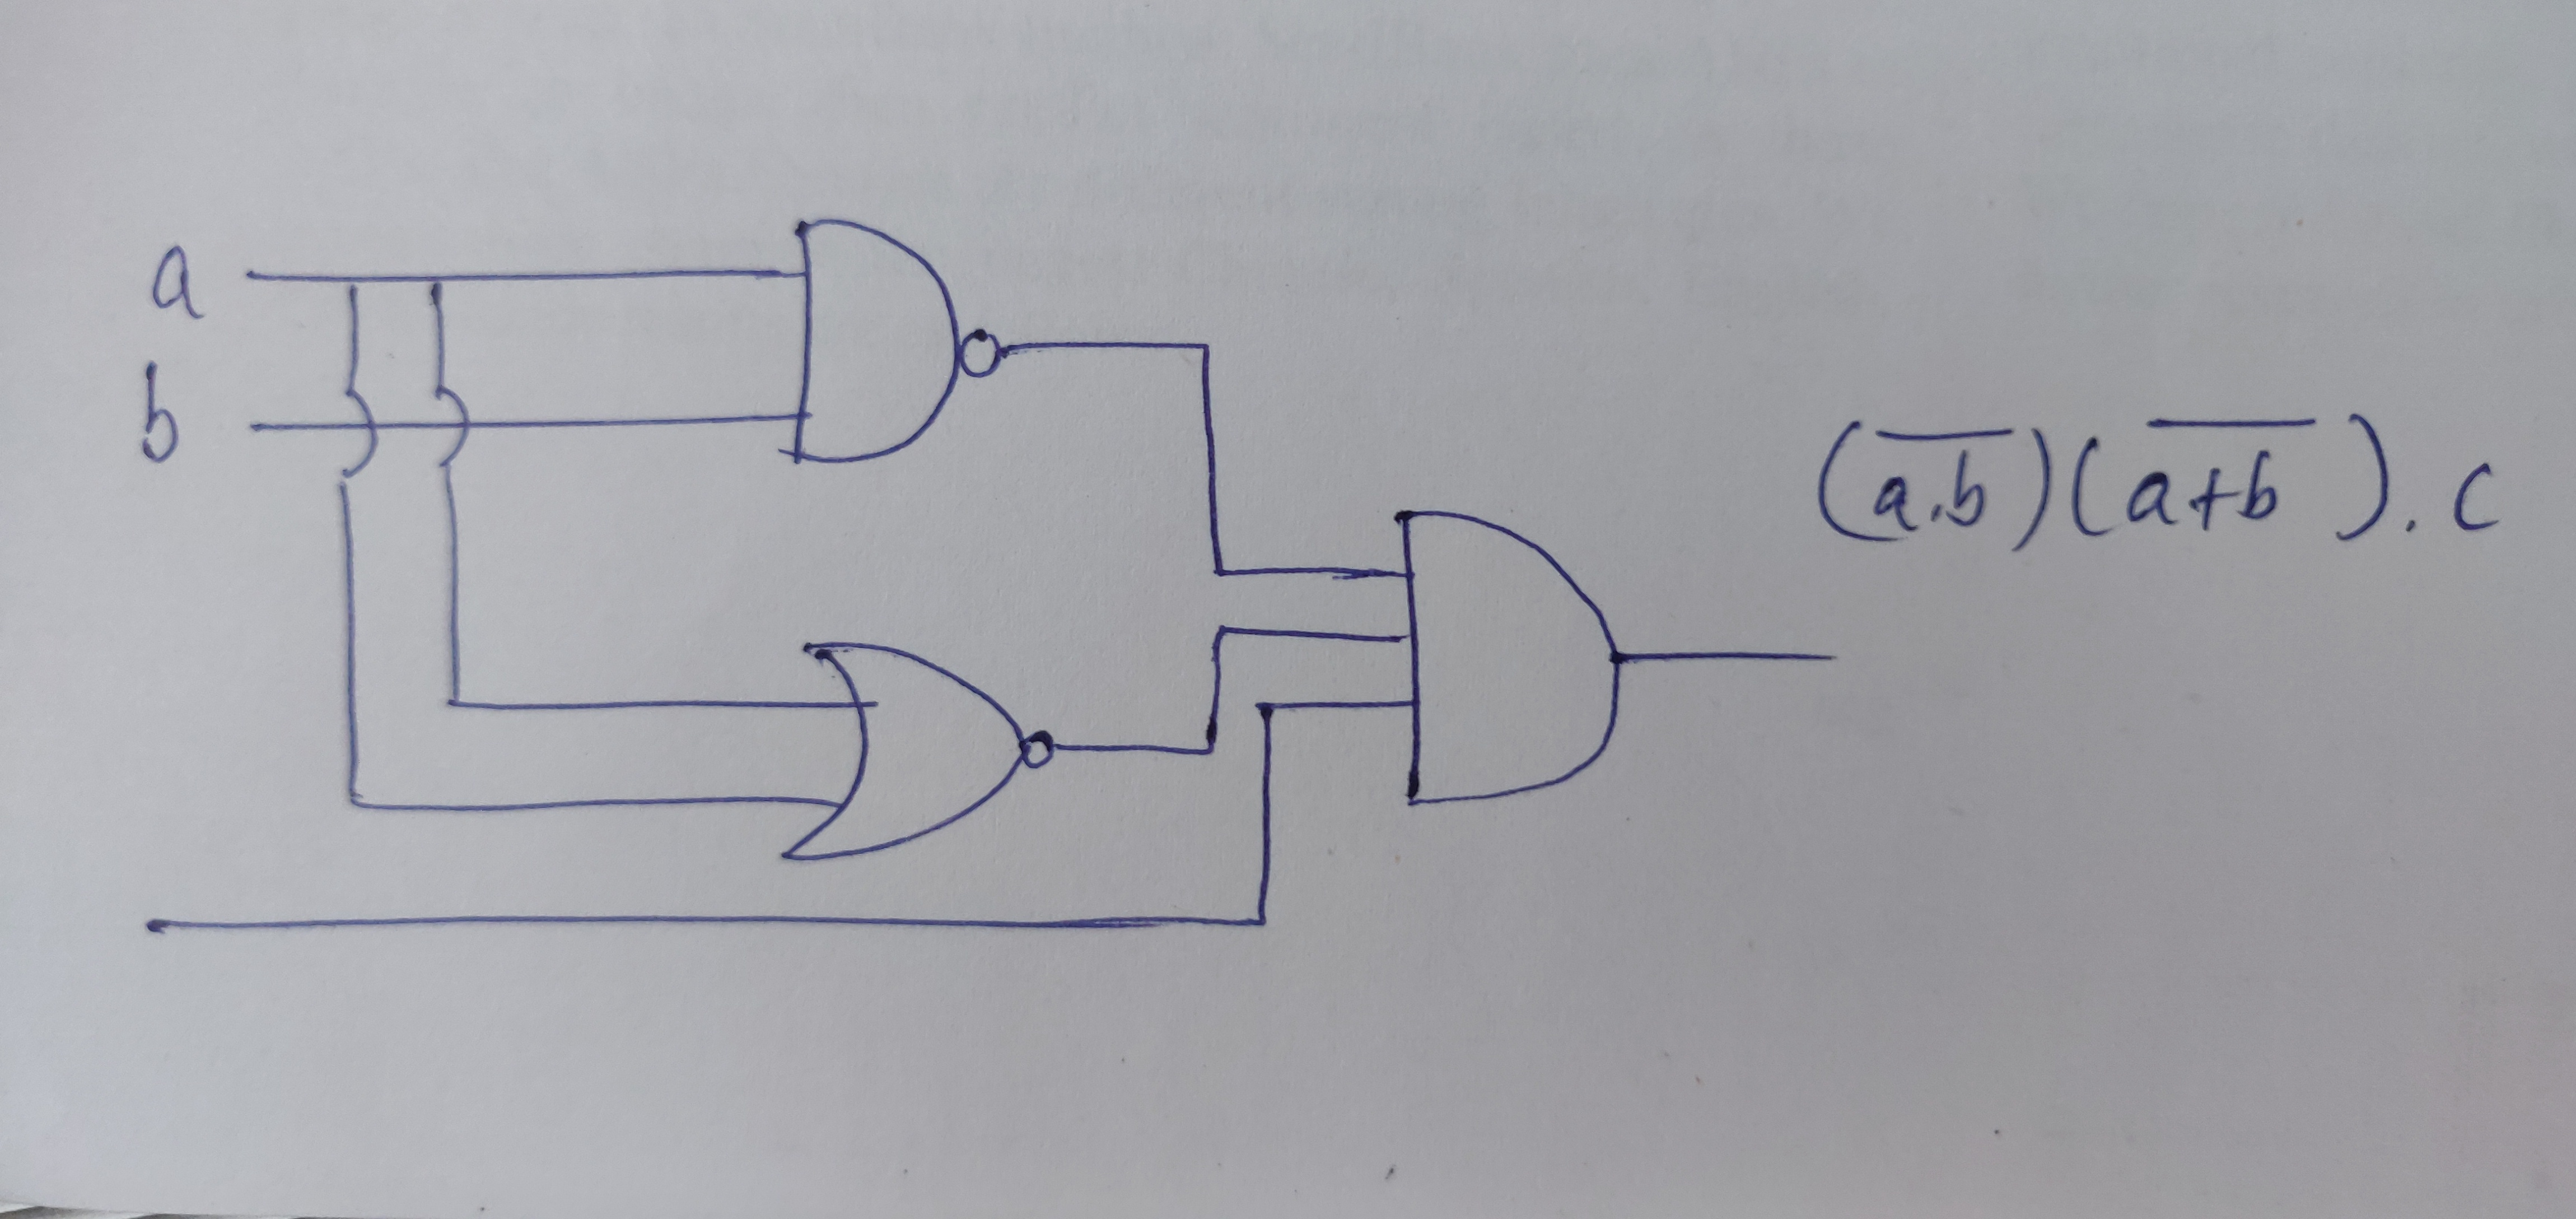and: (1324, 429, 1727, 859)
nand: (672, 161, 1058, 514)
nor: (728, 606, 1099, 876)
